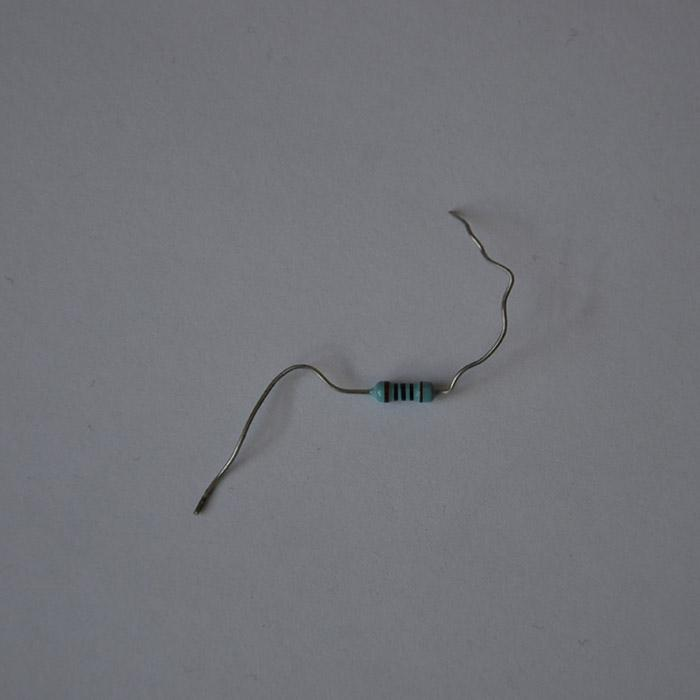resistor: (370, 380, 436, 404)
